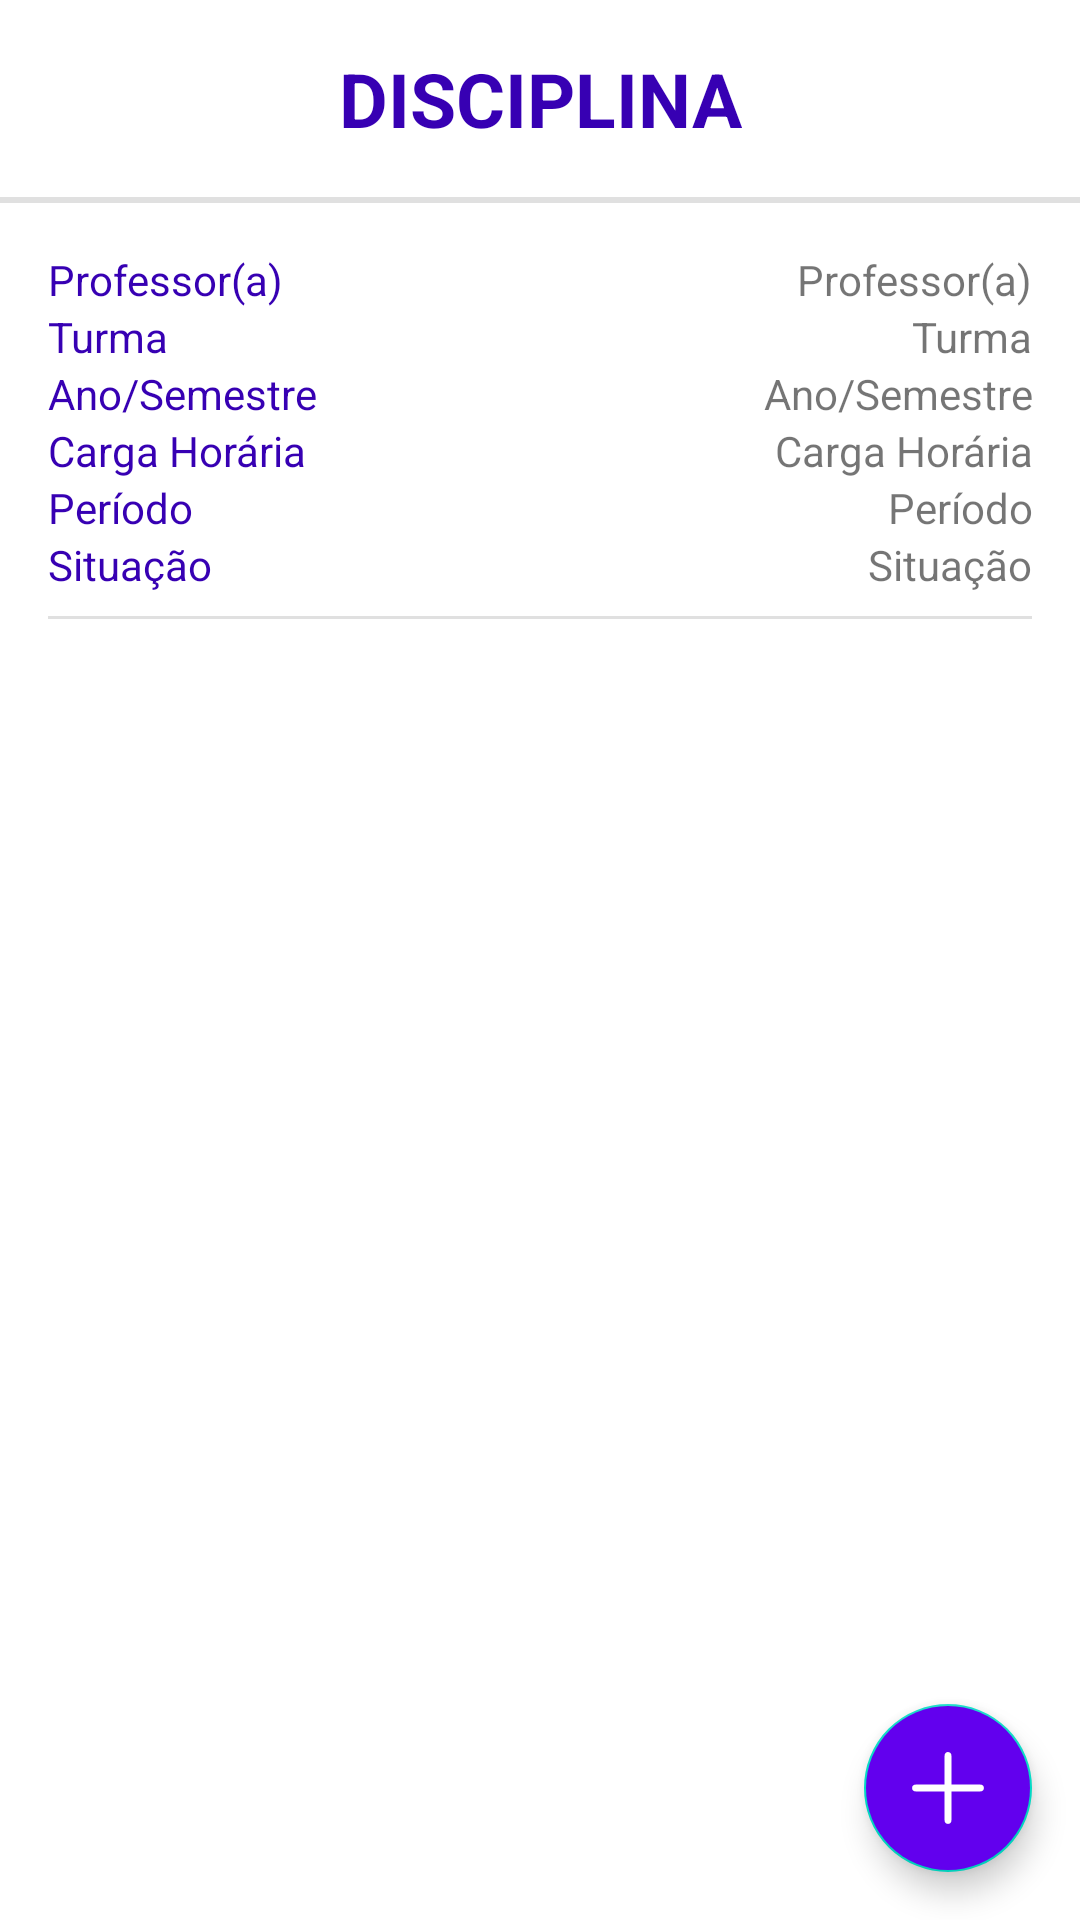

Icon click points for this 1080w x 1920h phone screenshot, format point (x, y):
Adicionar uma avaliação: point (948, 1788)
